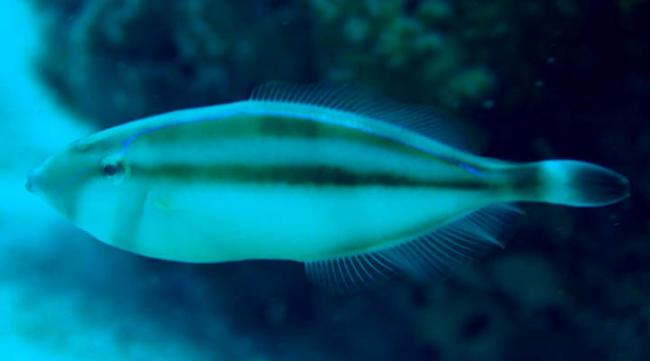fish: (24, 99, 632, 264)
